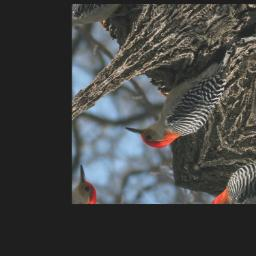Woodpecker: (117, 33, 256, 167)
